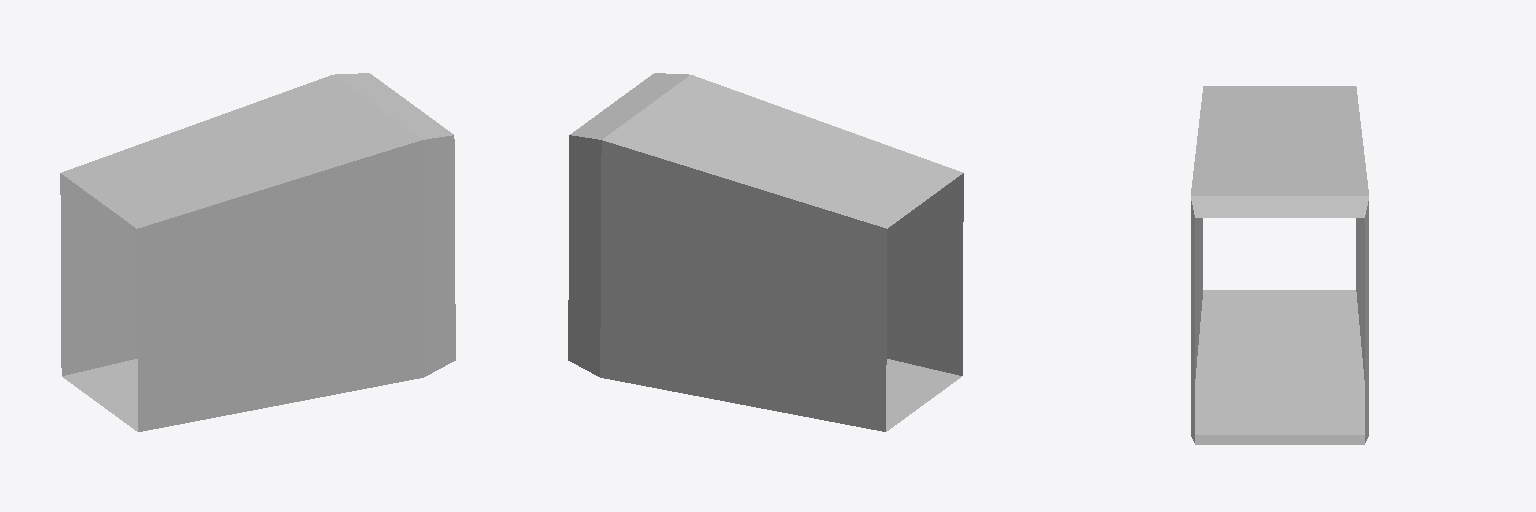
File: Rat_Tail7.obj
3 views of the same model, side by side, from view 1: azimuth 30°, elevation 25°; view 2: azimuth 150°, elevation 25°; view 3: azimuth 270°, elevation 25° (orthographic).
Parts seen in each view (by area): view 1: Rat_Tail.007; view 2: Rat_Tail.007; view 3: Rat_Tail.007.
Boxes of the visible parts, box(x1,y1,x2,y2) form: Rat_Tail.007: box(60, 73, 455, 431); Rat_Tail.007: box(568, 73, 963, 431); Rat_Tail.007: box(1191, 86, 1368, 444).
Bounding box in the file's own units: 0.0313 × 0.0226 × 0.0154.